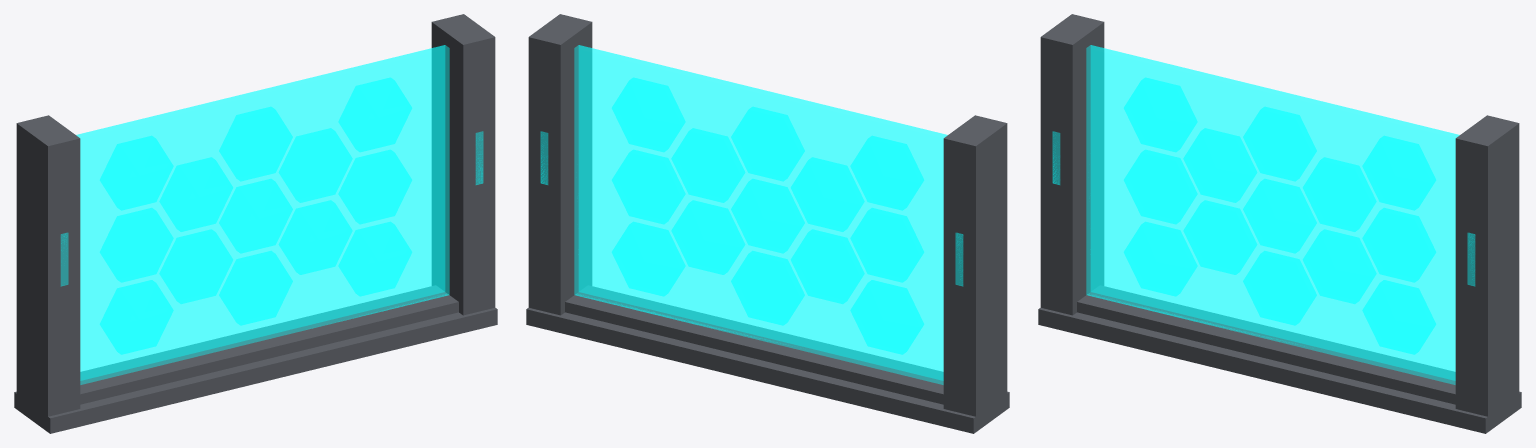
Rendered from GAD_MOD_01_BARRIER.glb.
The picture shows the model from 3 angles, left to right: view 1: azimuth 30°, elevation 25°; view 2: azimuth 150°, elevation 25°; view 3: azimuth 330°, elevation 25°; orthographic projection.
Visible parts, largest first — view 1: SM_GAD_MOD_01_BARRIER; view 2: SM_GAD_MOD_01_BARRIER; view 3: SM_GAD_MOD_01_BARRIER.
Boxes of the visible parts, box(x1,y1,x2,y2) form: SM_GAD_MOD_01_BARRIER: box(14, 14, 497, 433); SM_GAD_MOD_01_BARRIER: box(526, 14, 1009, 433); SM_GAD_MOD_01_BARRIER: box(1038, 14, 1521, 433).
Size of the model in its own units: 1.8 by 1.1 by 0.25.
